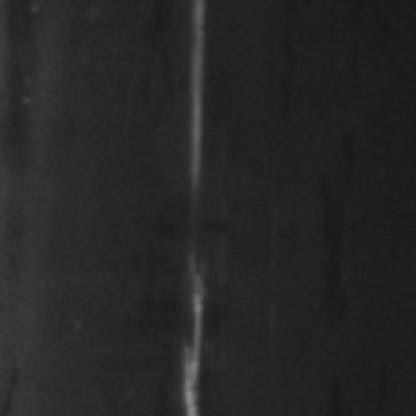scratches: (175, 0, 206, 200), (173, 260, 212, 414)
